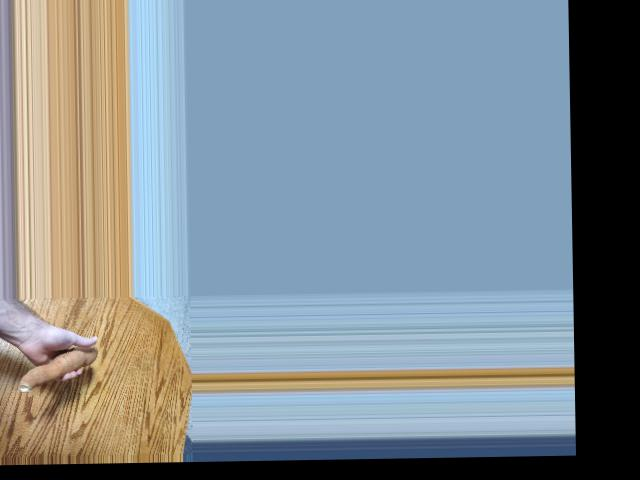sweet_potato: (16, 348, 102, 391)
